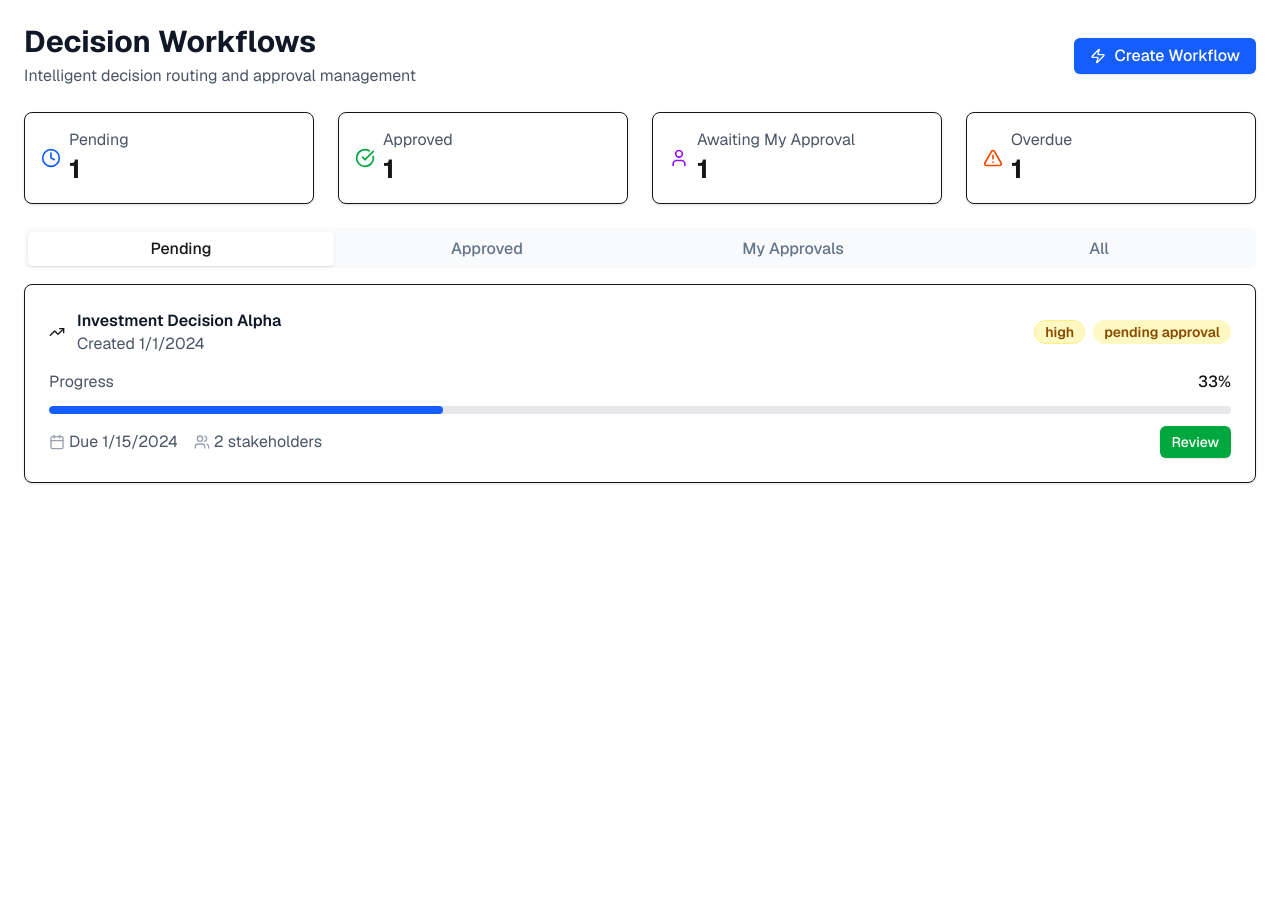
Test case: DecisionWorkflowDashboard › Approval Dialog › should have approval and reject options in select
Click the button "Review". click: (1195, 442)
box: [1160,426,1231,458]
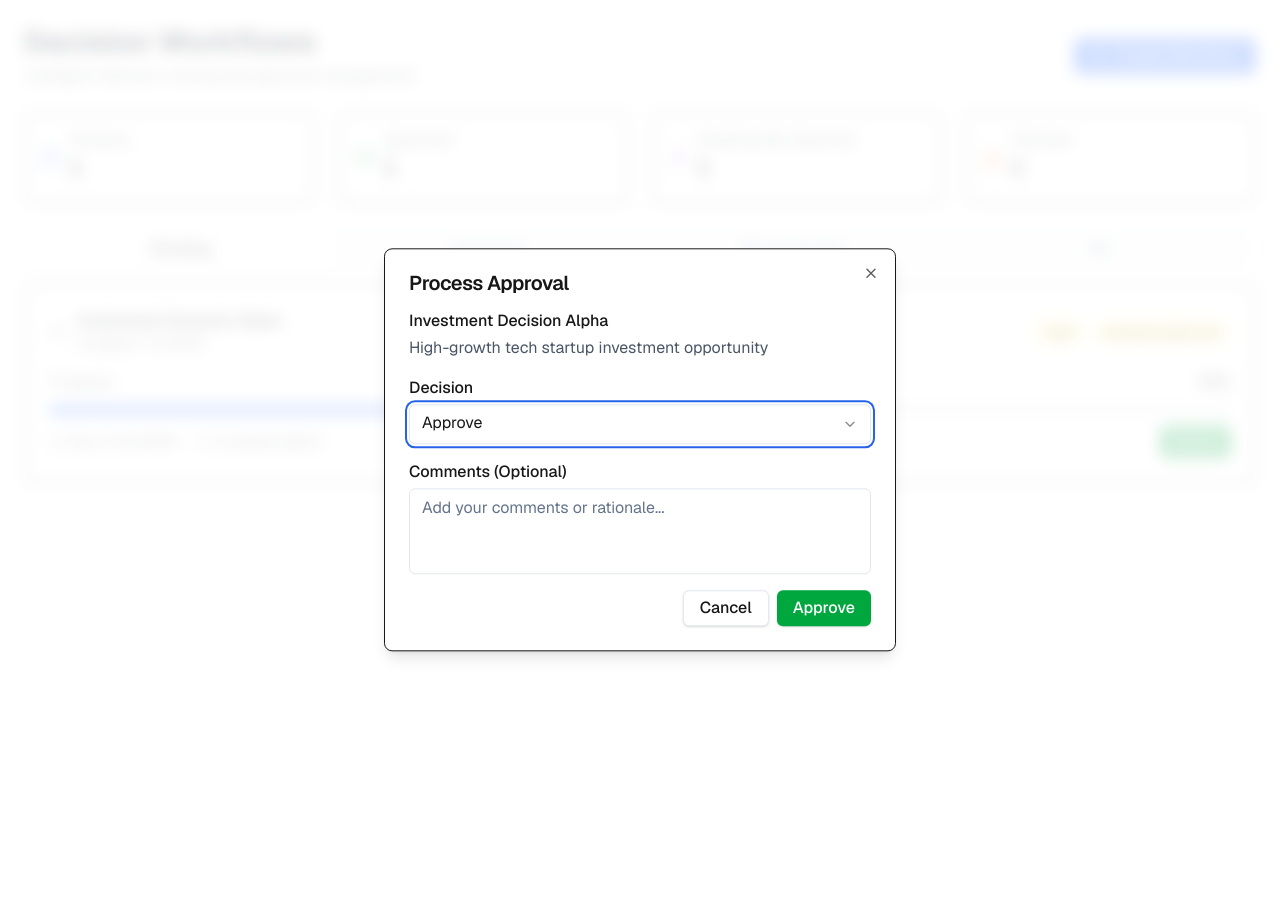
Result: the dropdown is shown at [409,404,871,444]
